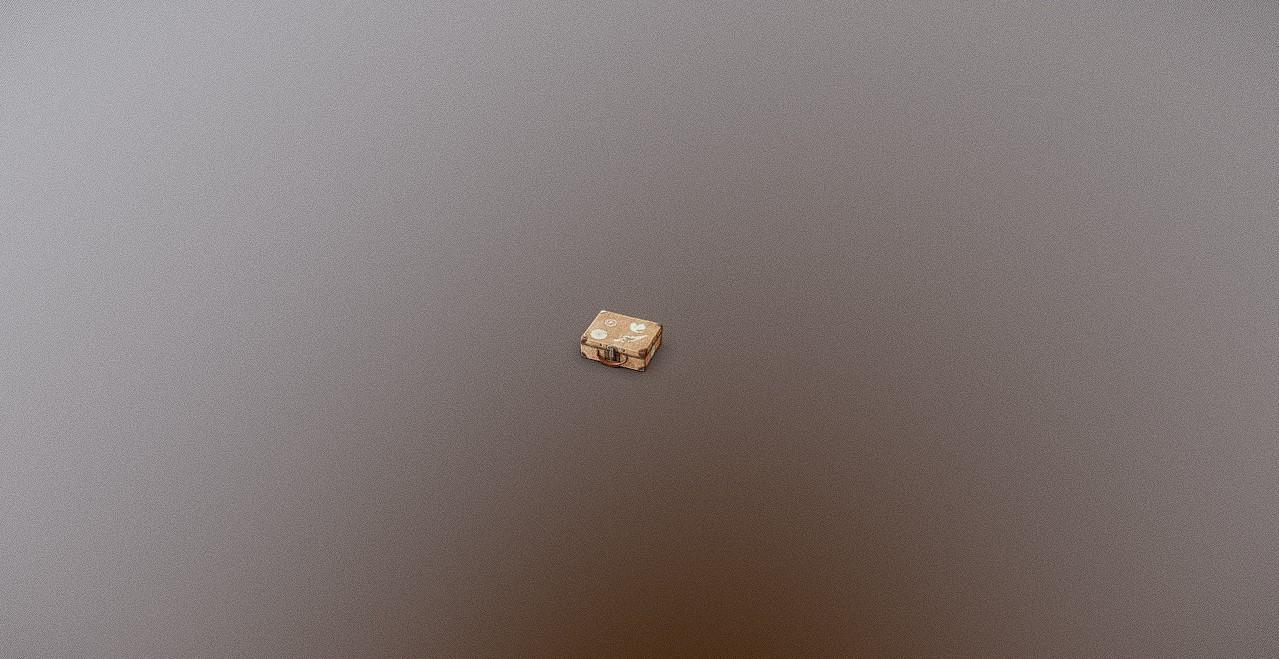Stop-Sign: (578, 308, 663, 372)
